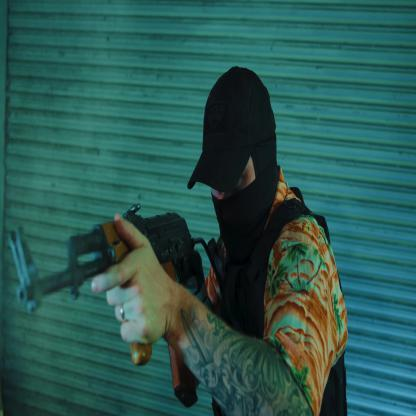Gun: (7, 160, 240, 416)
